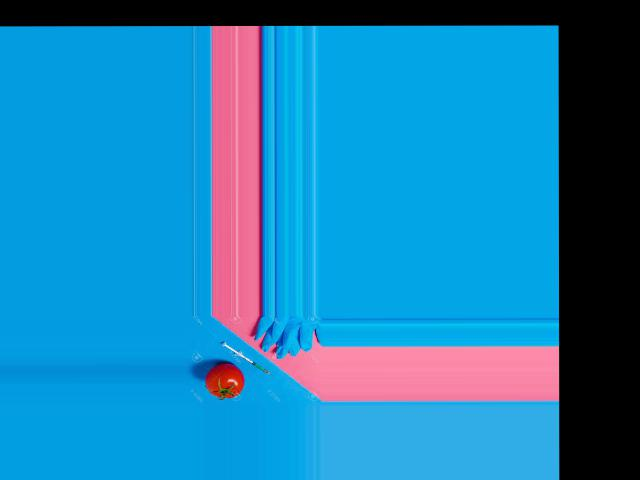tomato: (206, 362, 244, 397)
